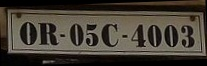character: (37, 21, 58, 45), (101, 22, 120, 47), (18, 21, 37, 45), (130, 22, 146, 48), (163, 23, 179, 48), (68, 22, 84, 46), (180, 23, 195, 48), (147, 23, 161, 47), (85, 23, 99, 46)
